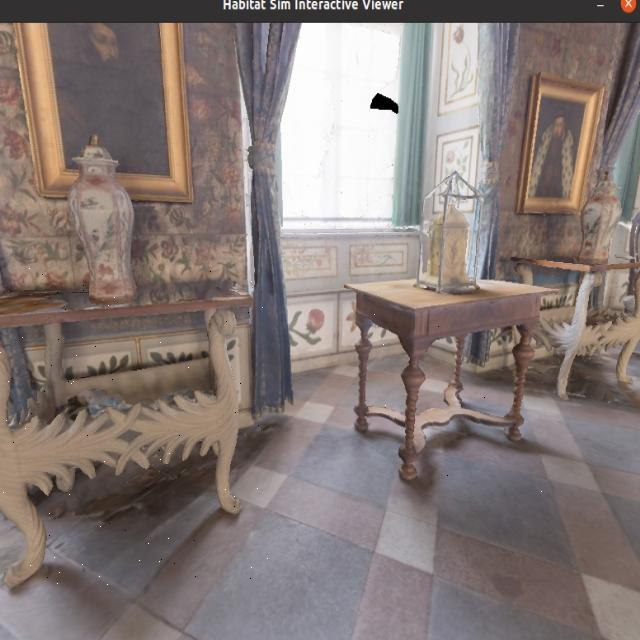table: (0, 257, 275, 590), (333, 262, 552, 494), (525, 236, 640, 416)
